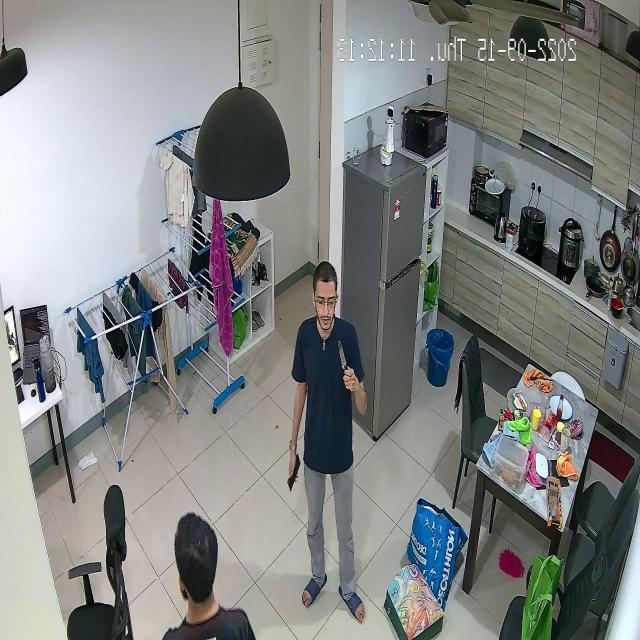Knife: (330, 339, 356, 380)
